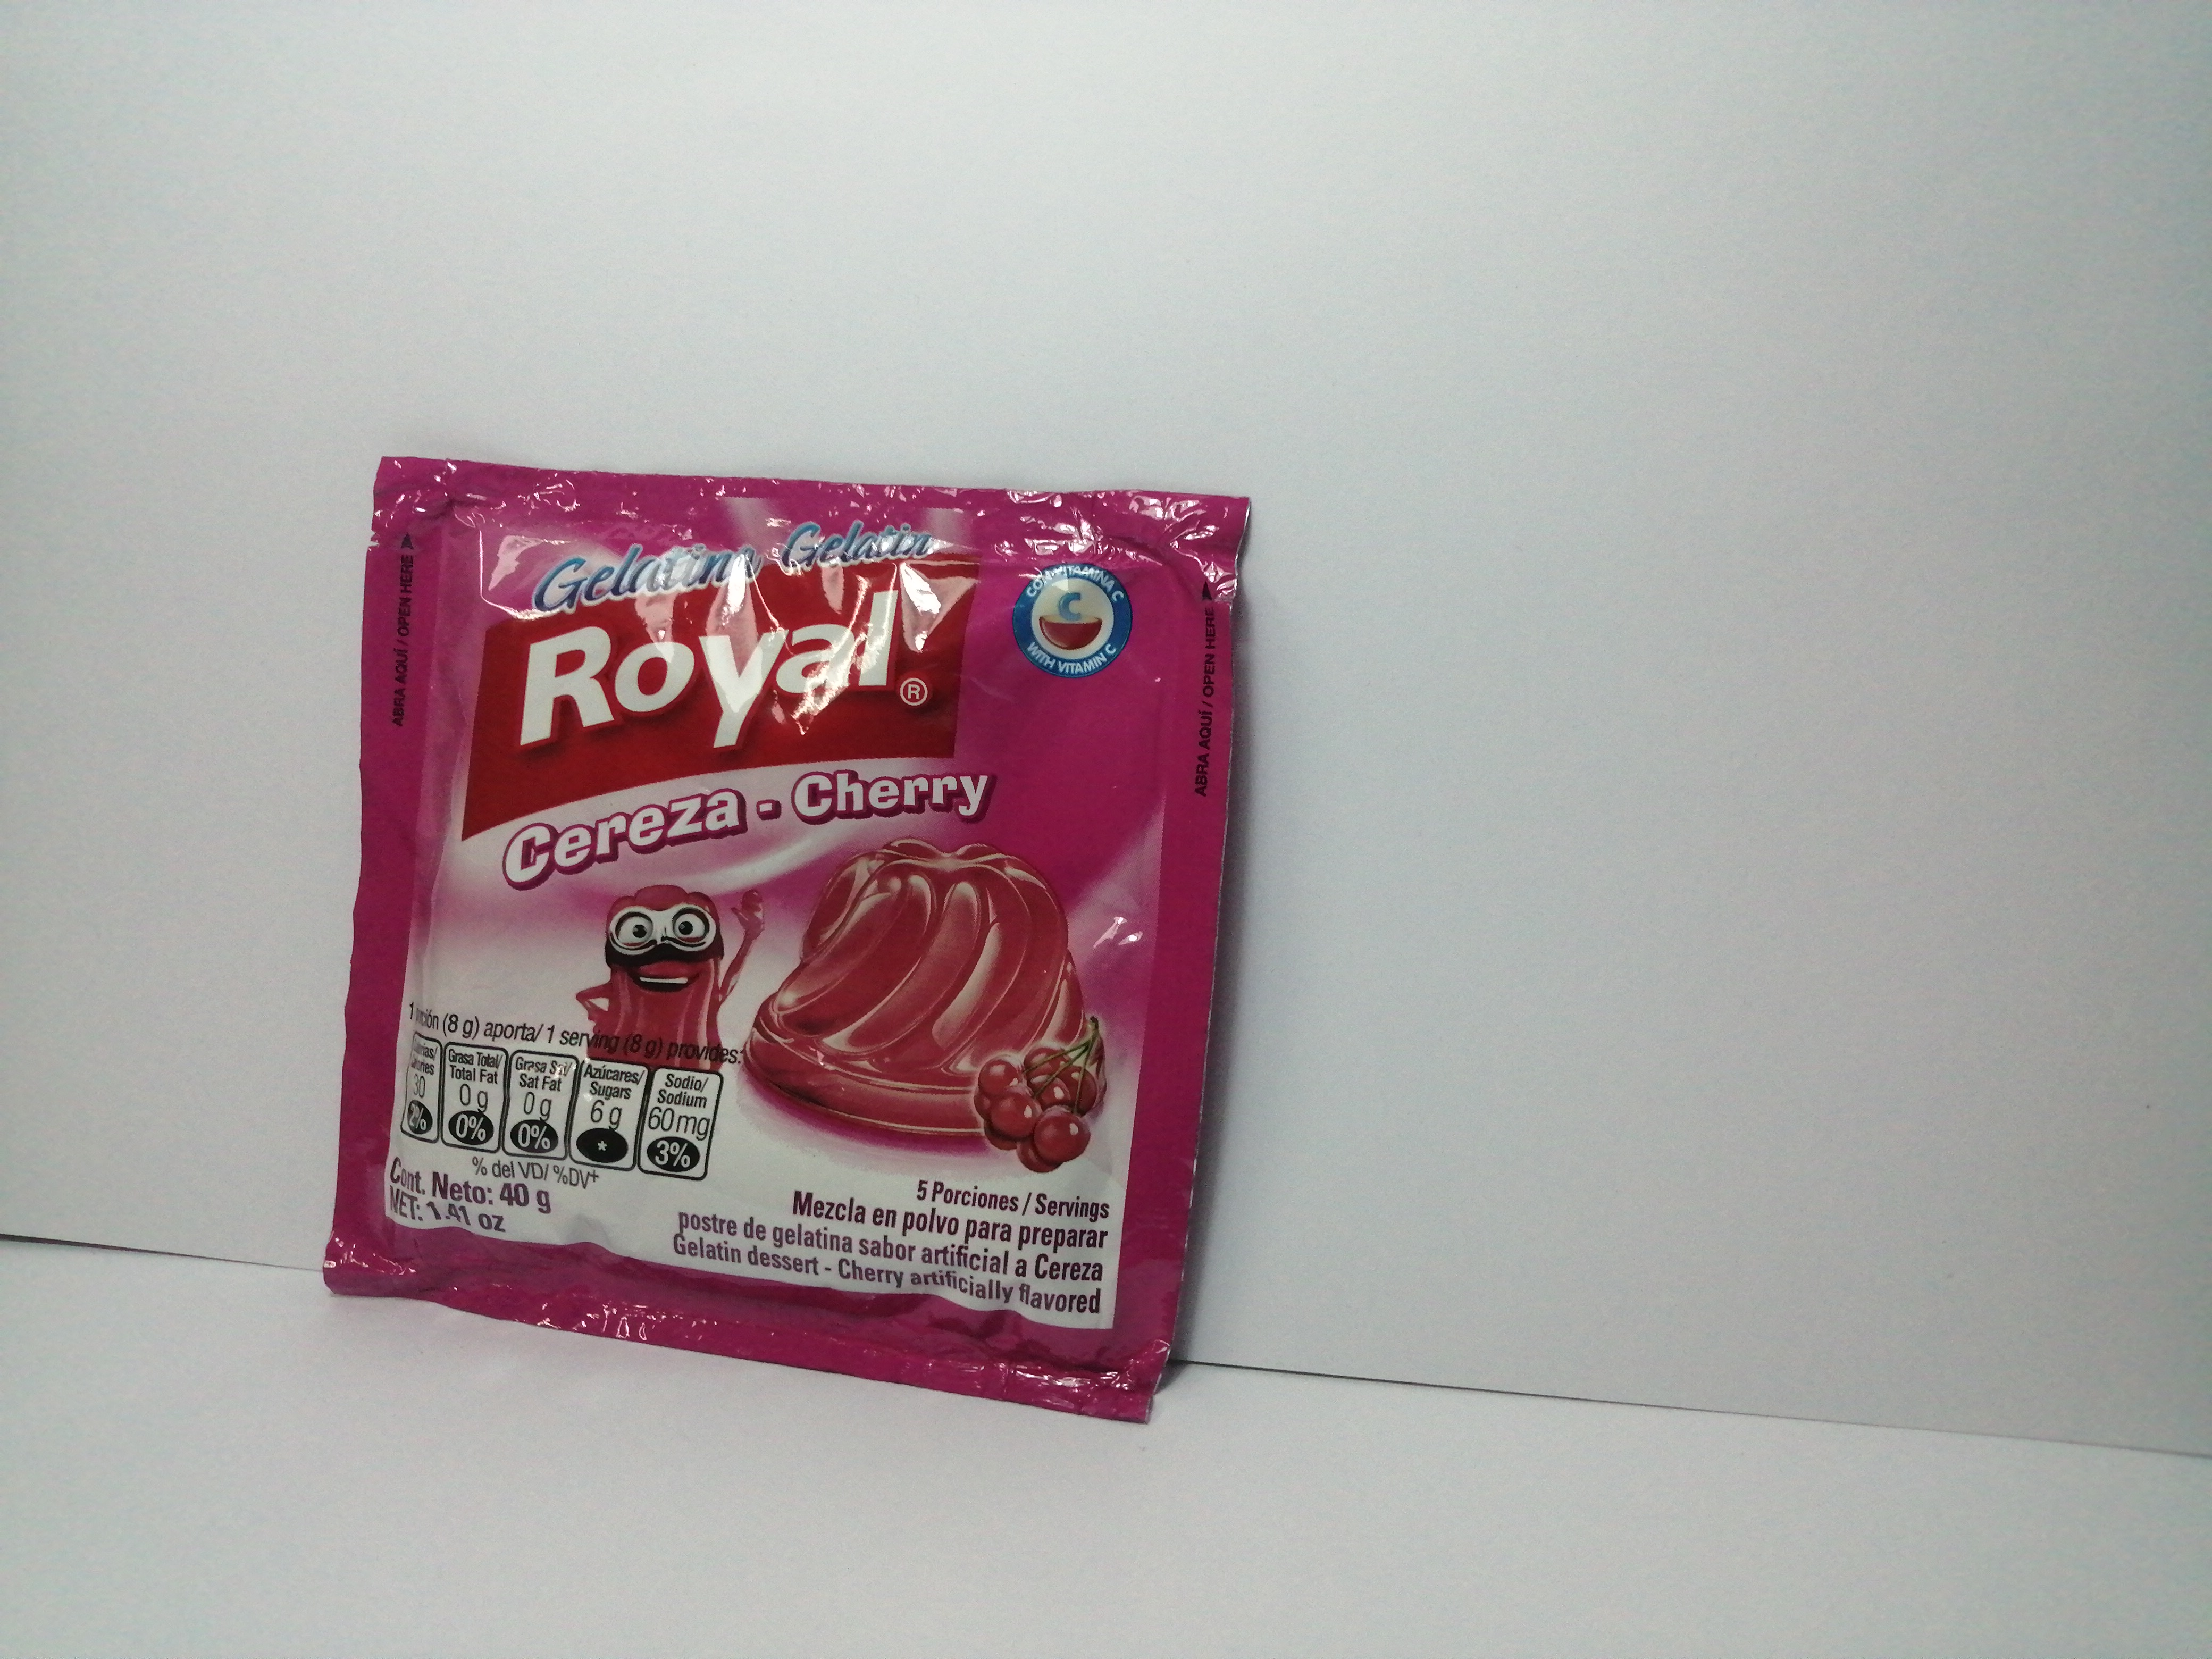gelatina: (320, 451, 1249, 1422)
